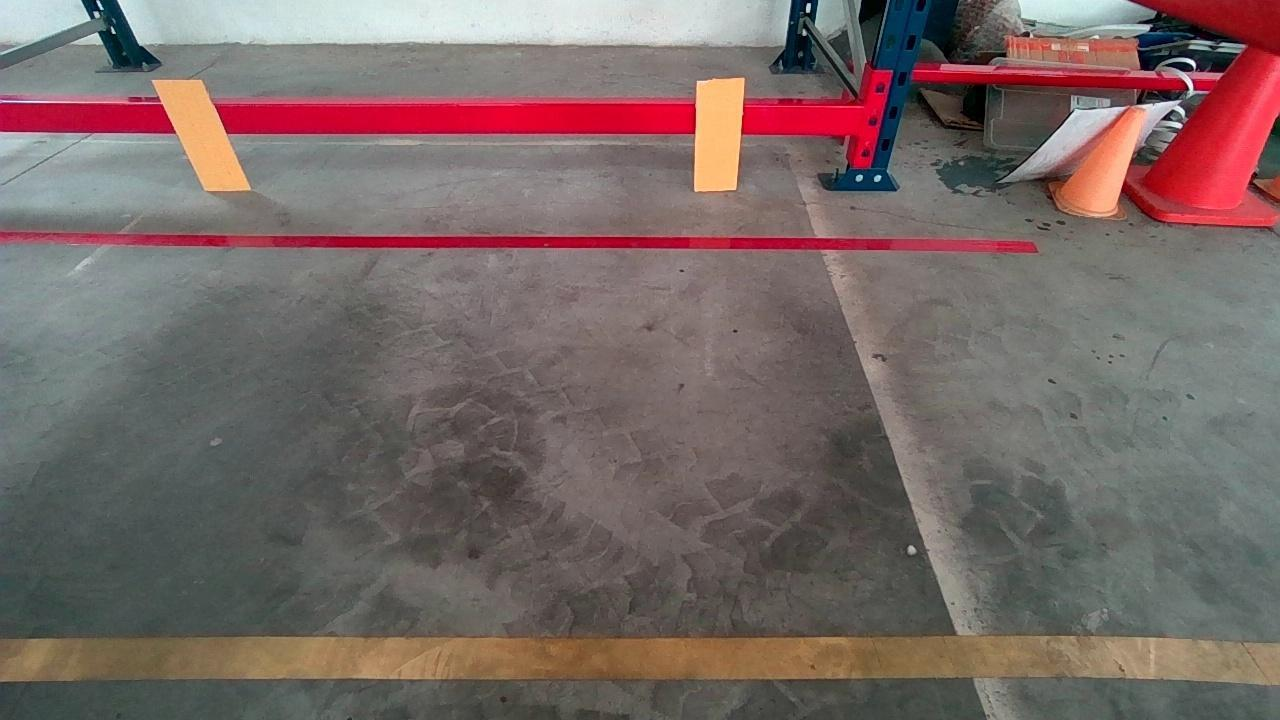h_rack: (0, 96, 871, 140)
orange_strip: (152, 79, 250, 189), (694, 79, 742, 189)
red_line: (8, 226, 1020, 256)
yellow_line: (0, 638, 1280, 691)
